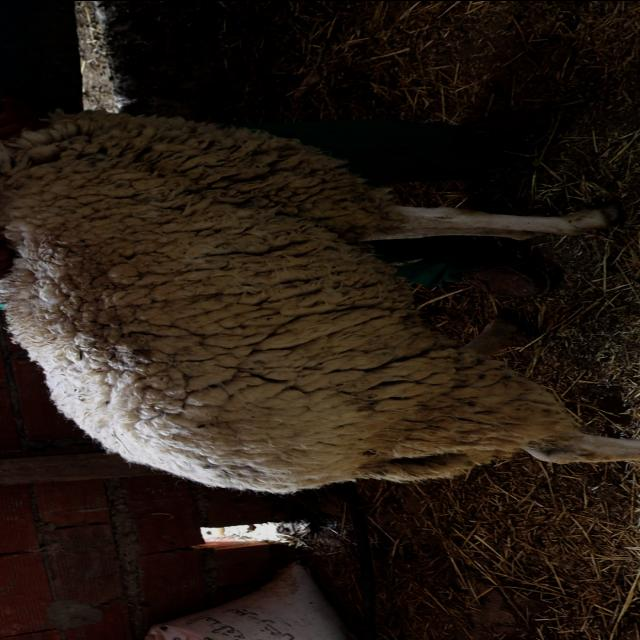Score_4: (0, 110, 639, 493)
